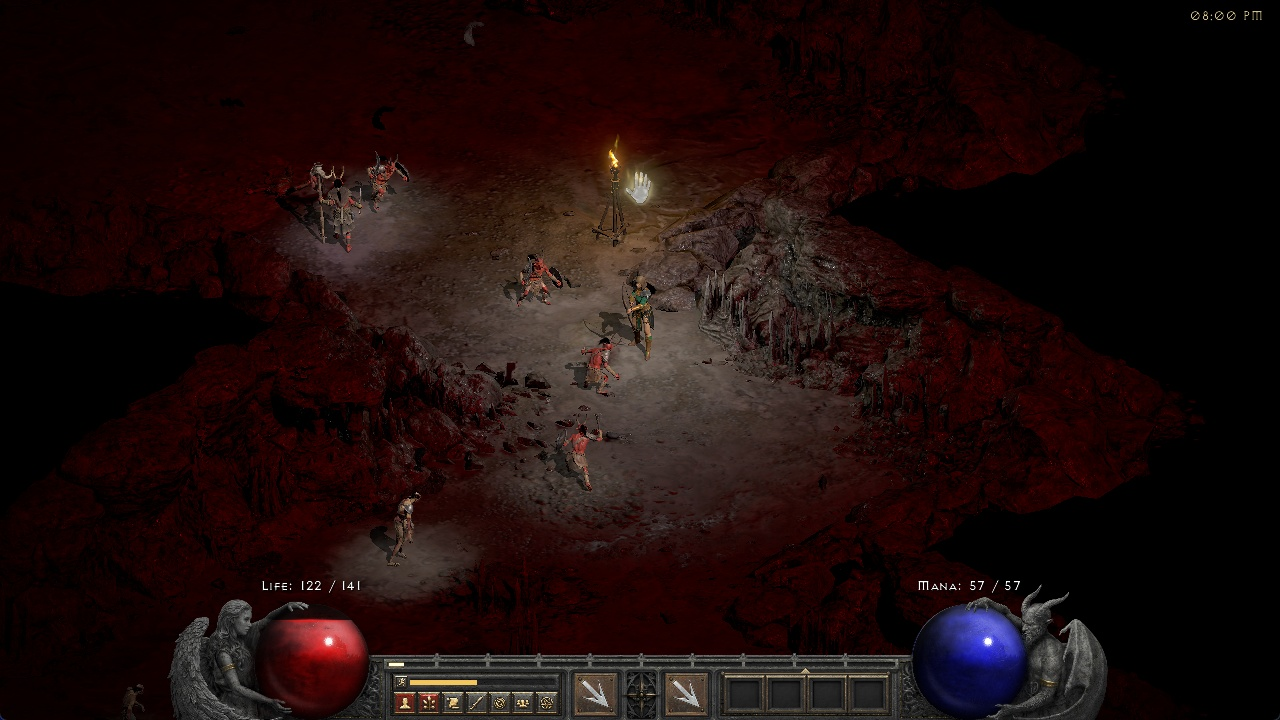fallen: (556, 412, 607, 488), (511, 251, 567, 305), (575, 335, 625, 395), (362, 153, 412, 212)
